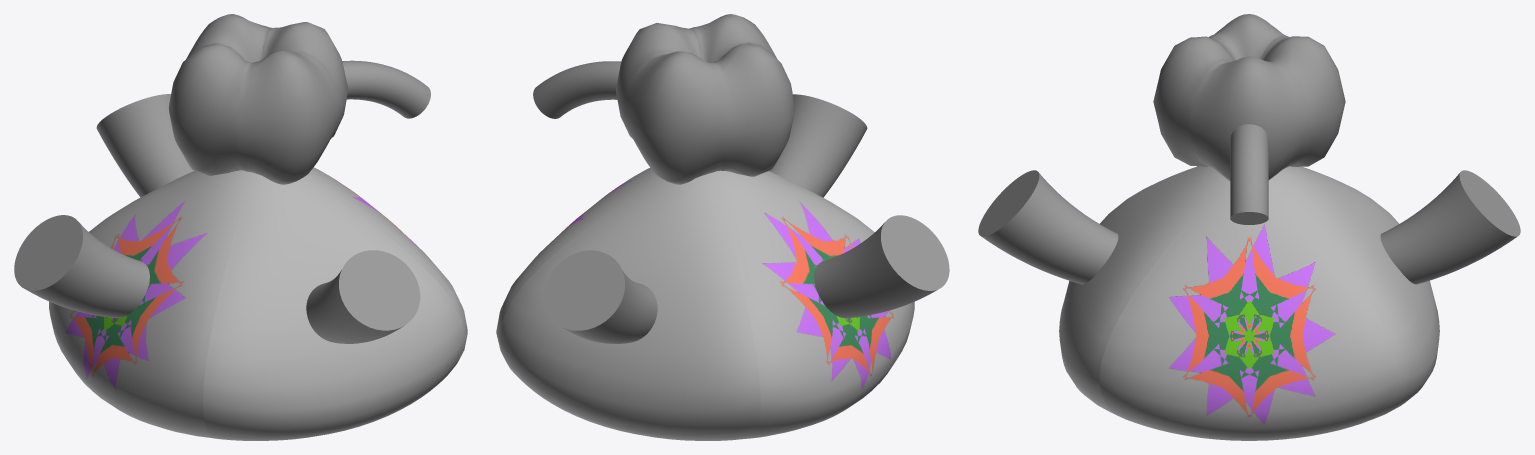
3 renders of one model, left to right at view 1: azimuth 30°, elevation 25°; view 2: azimuth 150°, elevation 25°; view 3: azimuth 270°, elevation 25°, orthographic.
Parts seen in each view (by area): view 1: Box001, Box002, Cone004, Cone002, Cone003, Cone001; view 2: Box001, Box002, Cone004, Cone003, Cone002, Cone001; view 3: Box001, Box002, Cone002, Cone003, Cone001.
Boxes of the visible parts, x1=… form: Box001: x1=49, y1=167, x2=467, y2=440; Box002: x1=168, y1=14, x2=347, y2=184; Cone004: x1=14, y1=215, x2=149, y2=317; Cone002: x1=306, y1=250, x2=420, y2=343; Cone003: x1=96, y1=94, x2=194, y2=197; Cone001: x1=342, y1=60, x2=430, y2=118; Box001: x1=496, y1=167, x2=914, y2=440; Box002: x1=616, y1=14, x2=794, y2=184; Cone004: x1=814, y1=215, x2=949, y2=318; Cone003: x1=544, y1=250, x2=657, y2=343; Cone002: x1=769, y1=94, x2=867, y2=197; Cone001: x1=533, y1=61, x2=621, y2=118; Box001: x1=1059, y1=166, x2=1439, y2=440; Box002: x1=1153, y1=14, x2=1345, y2=181; Cone002: x1=978, y1=170, x2=1118, y2=284; Cone003: x1=1380, y1=170, x2=1520, y2=284; Cone001: x1=1230, y1=124, x2=1268, y2=224.
Size of the model in its own units: 48.37 by 40.24 by 56.4.
Materials: 2 (1 with a texture image).
